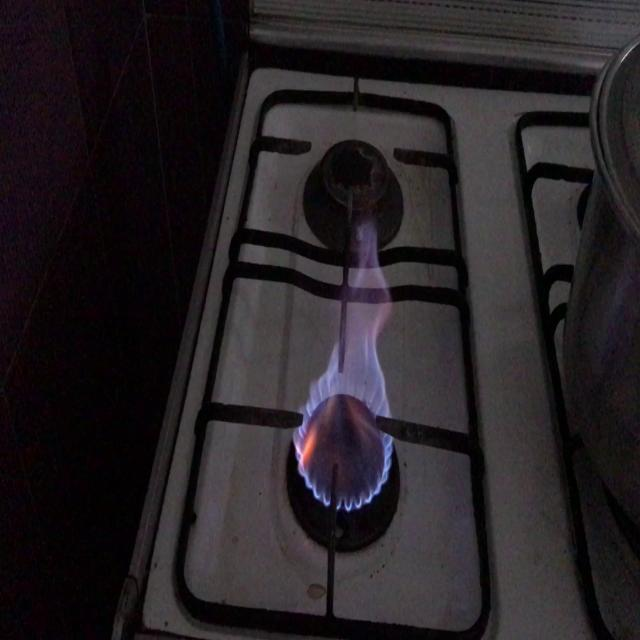Fire: (289, 229, 396, 518)
